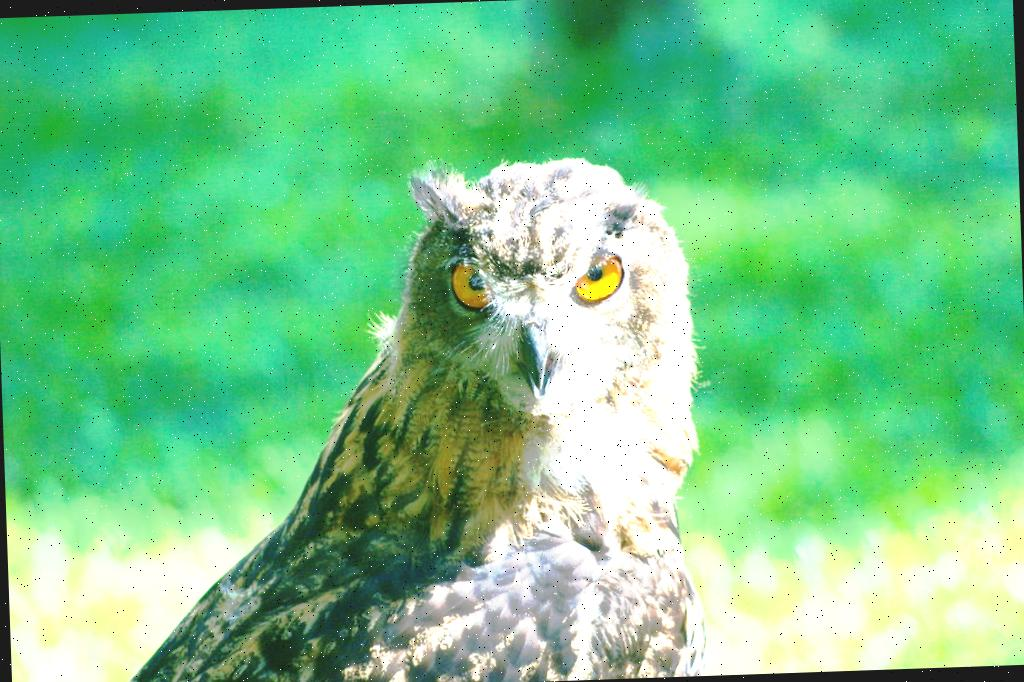Owl: (97, 144, 720, 682)
